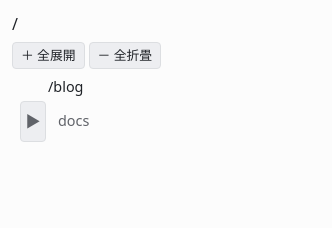
PageTree › 展開トグル: マーカー click で aria-expanded が false→true になり子グループが現れる
Click the button named "展開/折り畳み" at [33, 121], box x1=20 y1=101 x2=46 y2=142
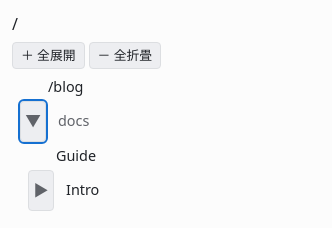
Check: the text with test id "location" reads "/", box x1=12 y1=13 x2=18 y2=35
Check: the list item "▼ docs Guide ▶ Intro" is expanded, box x1=20 y1=101 x2=99 y2=210
Check: the list is shown, box x1=28 y1=146 x2=99 y2=211
